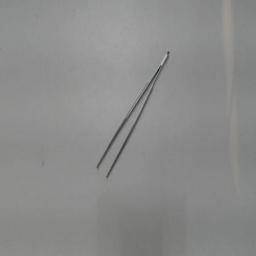Gillies Toothed Dissector: (86, 46, 178, 192)
